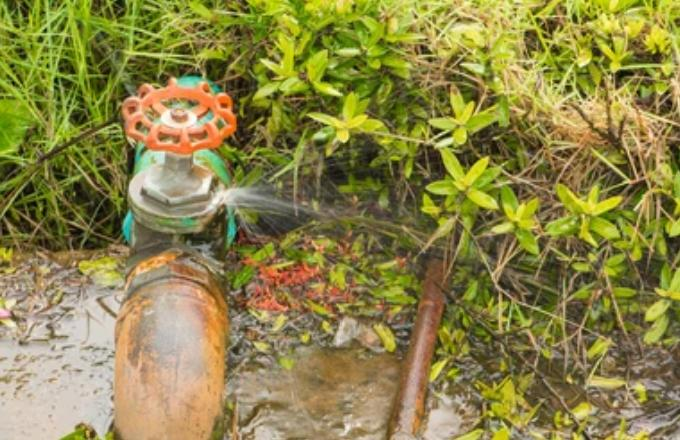pipe burst: (221, 179, 342, 238)
water accumulation: (1, 268, 466, 440)
